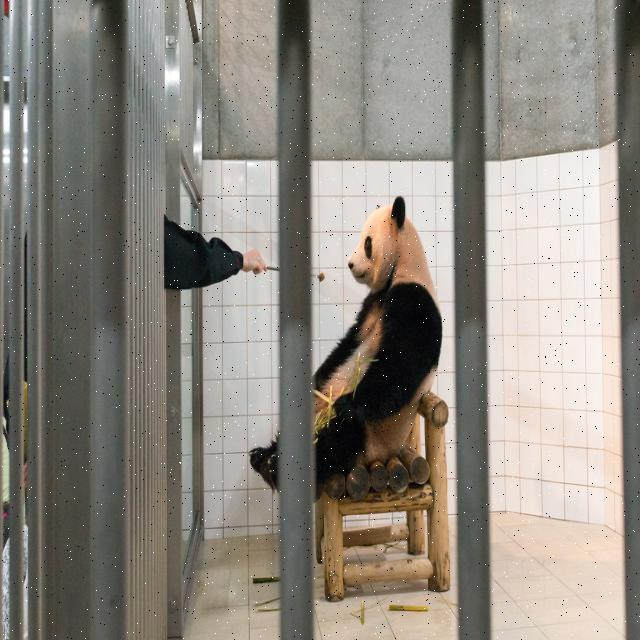panda: (248, 188, 444, 510)
